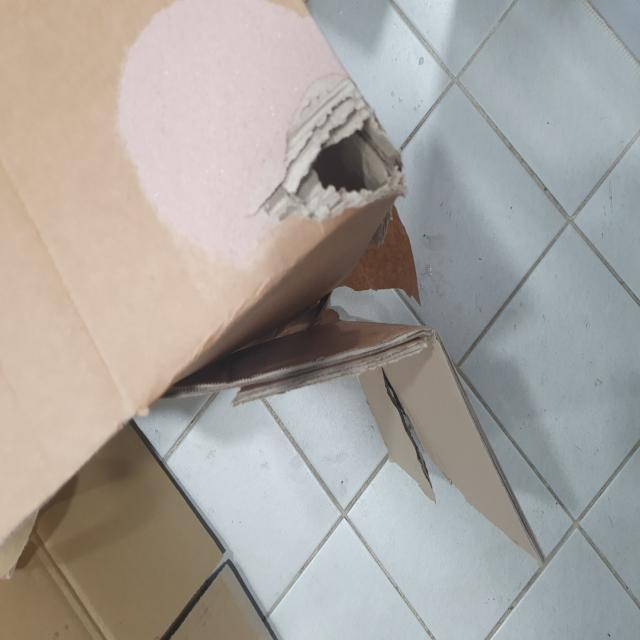damaged: (284, 101, 418, 227)
